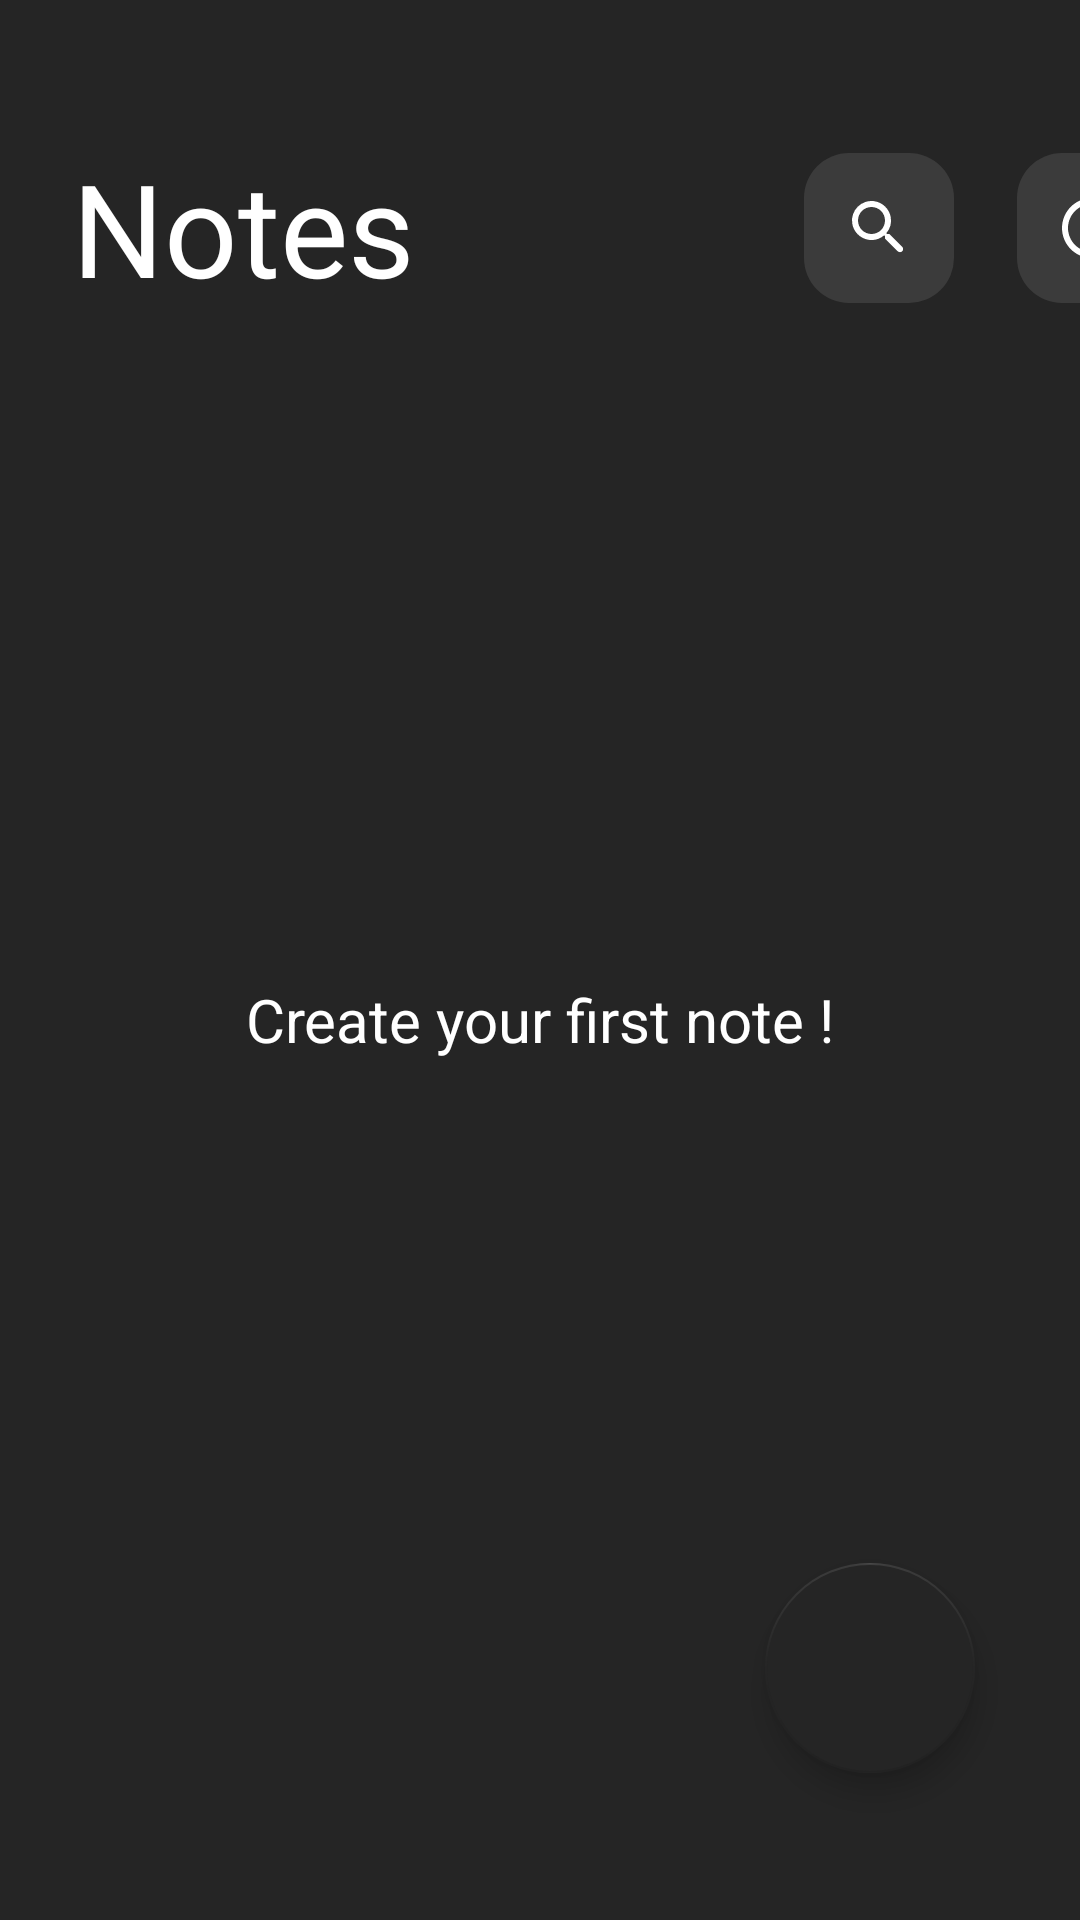

Where icons sit on this 1080×1920 app screen, as box=[x1, y1, x2, y2]:
Search for notes: box=[804, 153, 954, 303]
